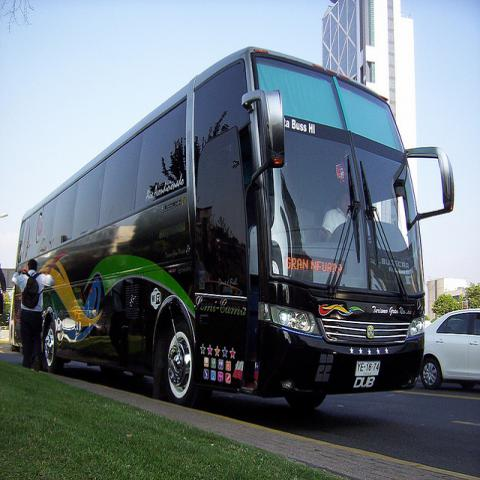bus: (8, 47, 454, 412)
car: (424, 310, 480, 390), (9, 286, 20, 352)
